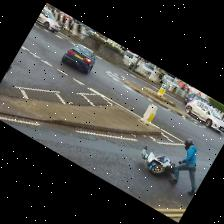person: (169, 139, 197, 195)
